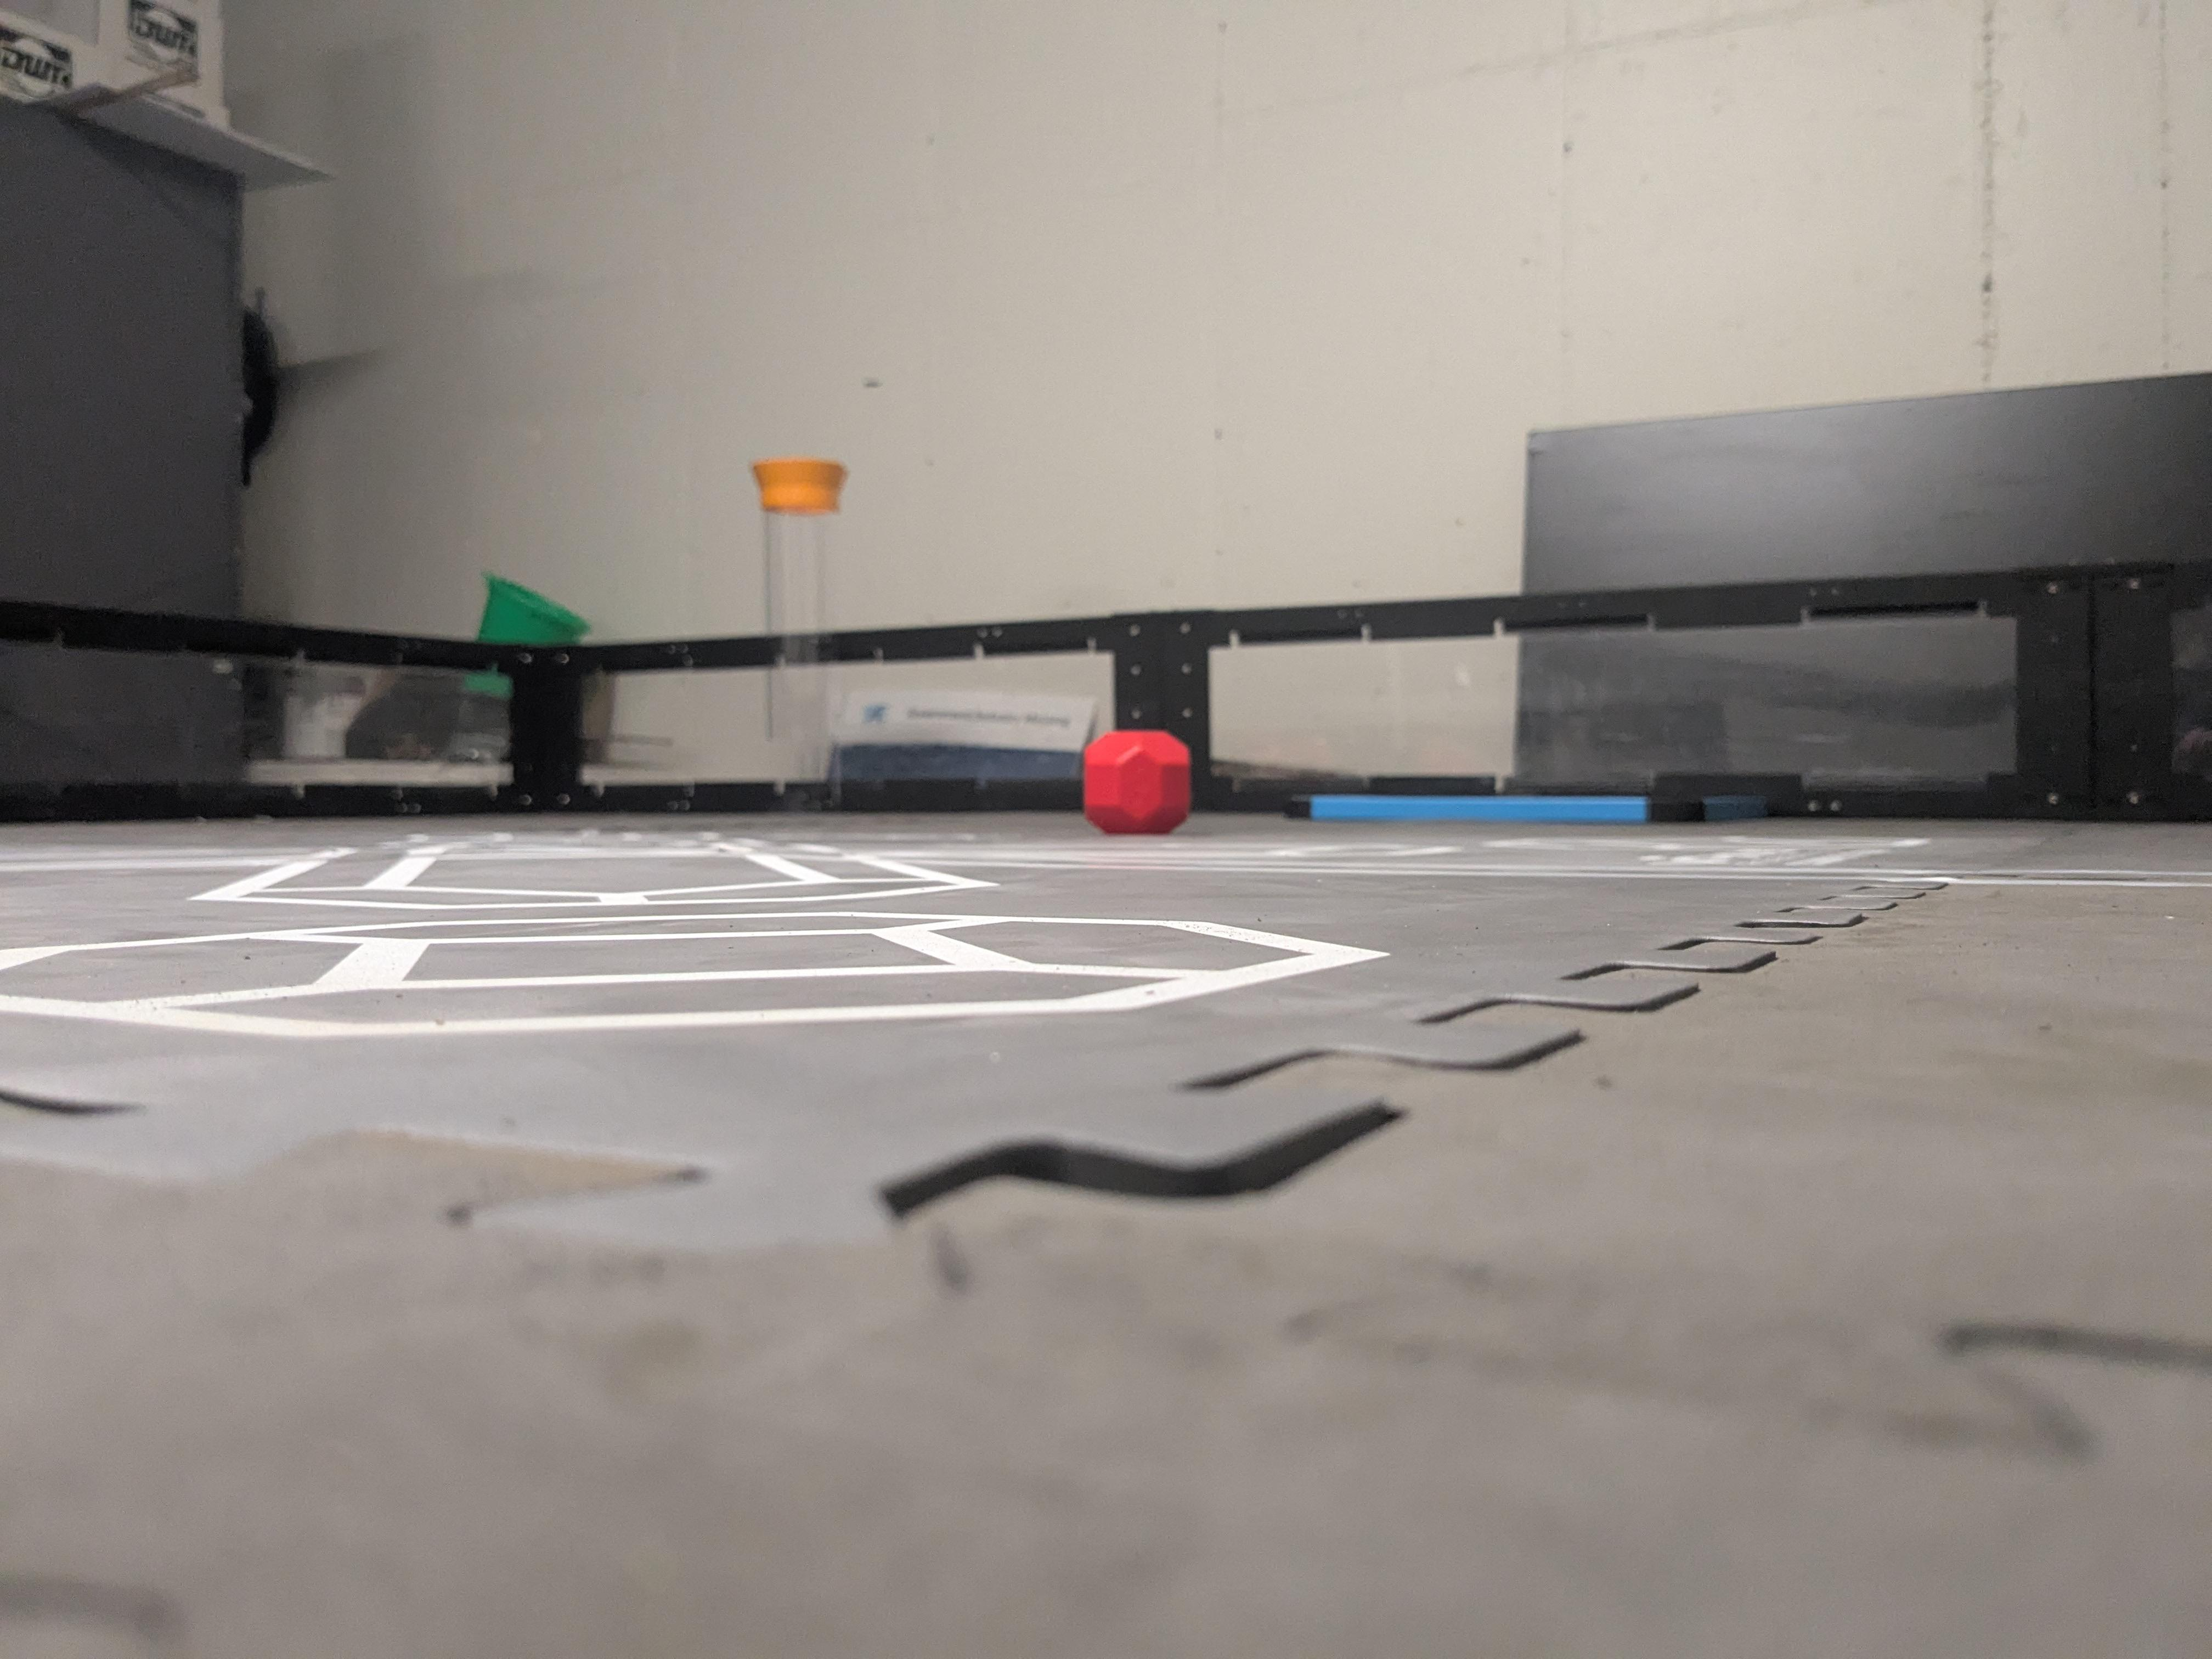Vex-Pieces-RED: (1083, 730, 1191, 835)
